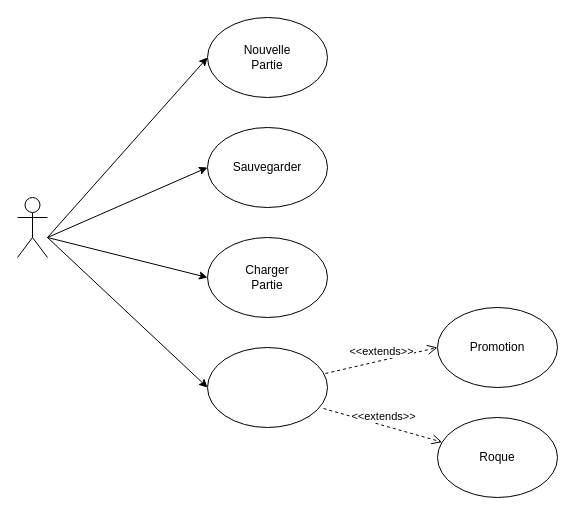
This 575x515 diagram has some shape labels left out. The shapes that lost their labels are listed below. From the top down, each one's box as (x1, y1, x2, y2) in pixels, then its label:
(16, 196, 48, 258): Actor
(206, 346, 328, 428): Déplacer Pièce
